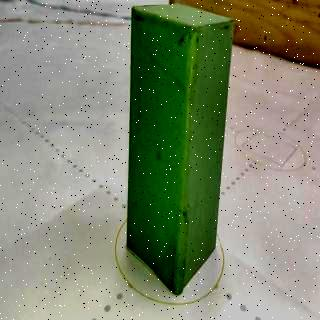greenbox: (130, 4, 220, 293)
